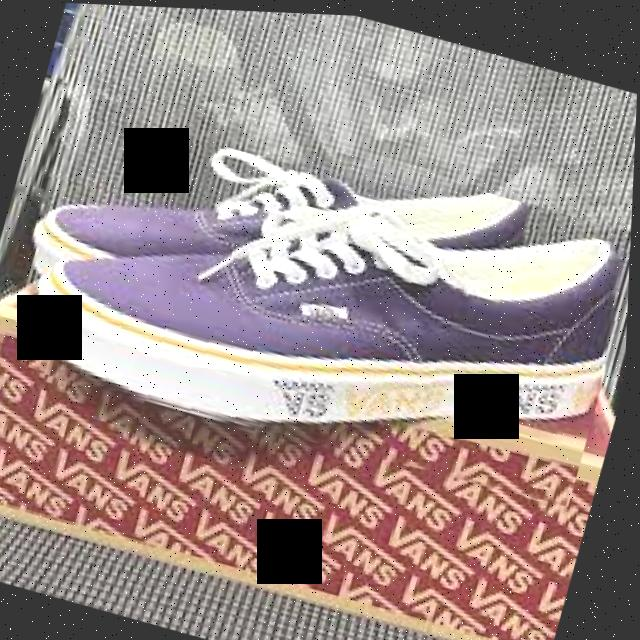shoe: (0, 73, 637, 515)
